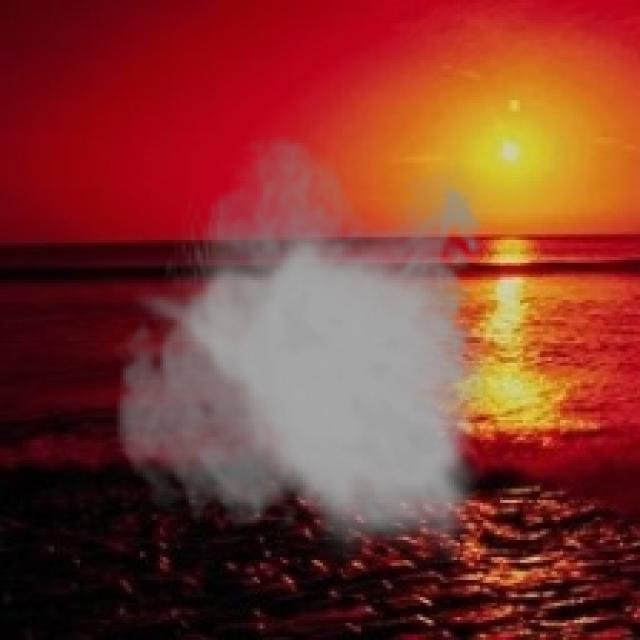smoke: (112, 137, 494, 563)
